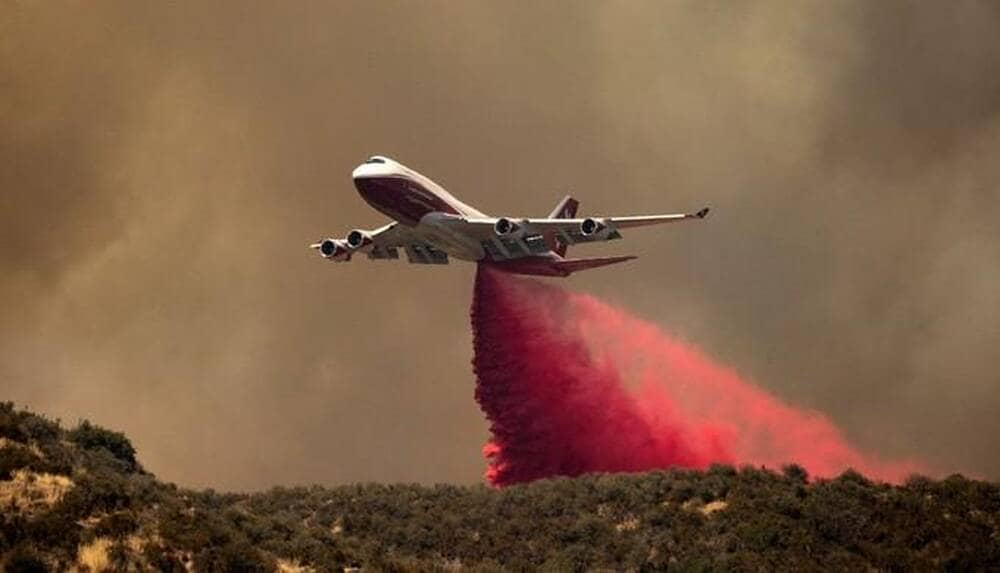Aeronef_de_service: (291, 138, 728, 284)
